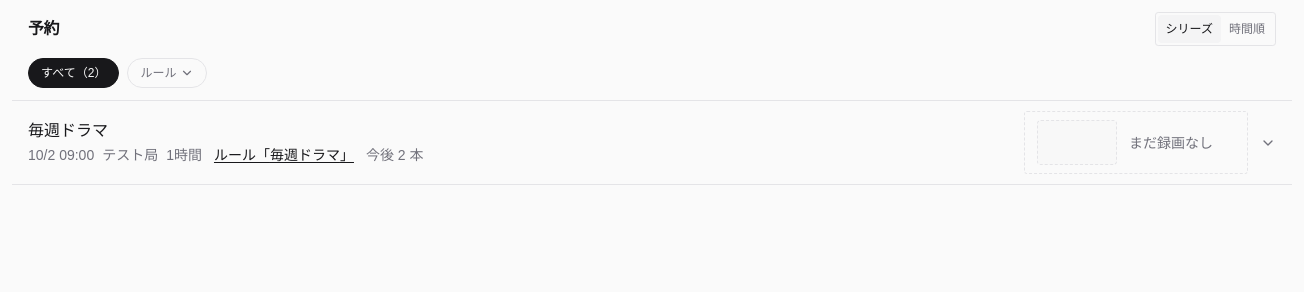
it: 予約一覧のシリーズ表示 › 展開した次回以外の回にもルール条件外の出自を表示する
Expected: the text "条件外" is not shown
Click the button named "毎週ドラマの予約を開く" at (652,142), box x1=12 y1=101 x2=1292 y2=184
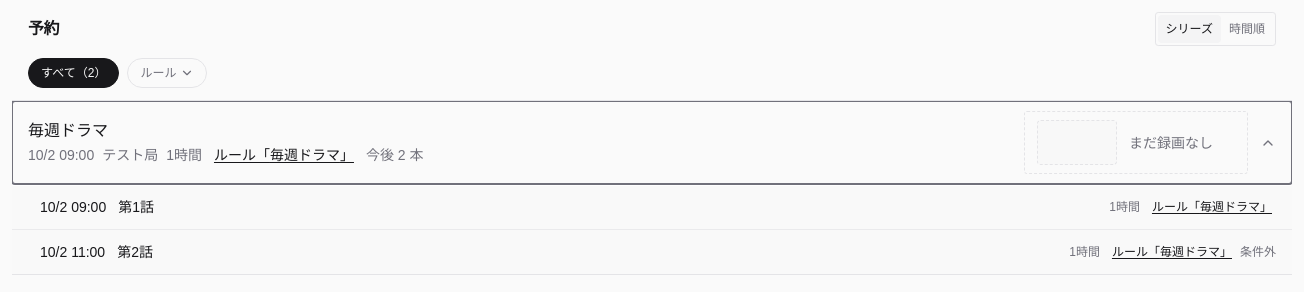
Now the text "条件外" is shown, box x1=1240 y1=244 x2=1276 y2=260
